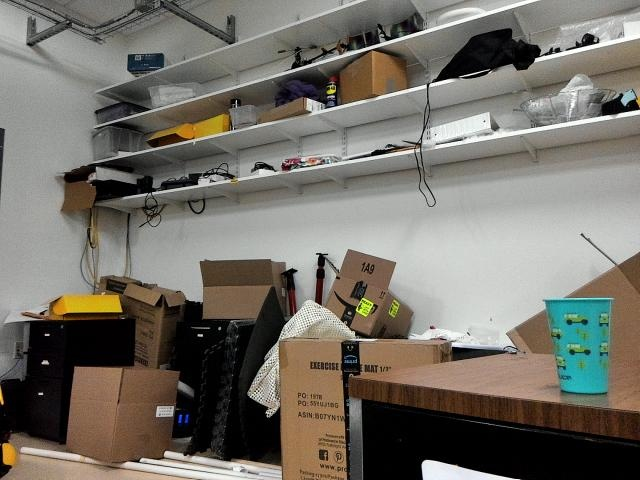coffee_cup: (541, 297, 618, 393)
